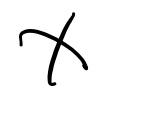mult: (18, 11, 88, 87)
